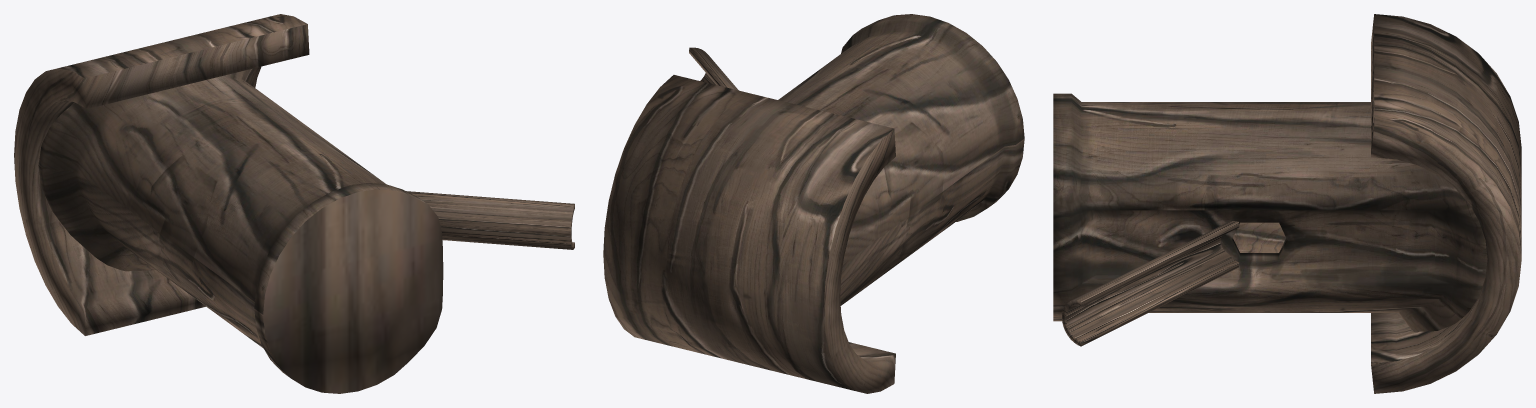
The model's file is bee house.fbx.
3 renders of one model, left to right at view 1: azimuth 30°, elevation 25°; view 2: azimuth 150°, elevation 25°; view 3: azimuth 270°, elevation 25°, orthographic. The views are drawn at different scales.
Visible parts, largest first — view 1: beehouse; view 2: beehouse; view 3: beehouse.
Part boxes in pixels (x1,y1,x2,y2): beehouse: (14,14,574,393); beehouse: (603,14,1024,393); beehouse: (1053,14,1521,393).
Size of the model in its own units: 395 by 279 by 443.
